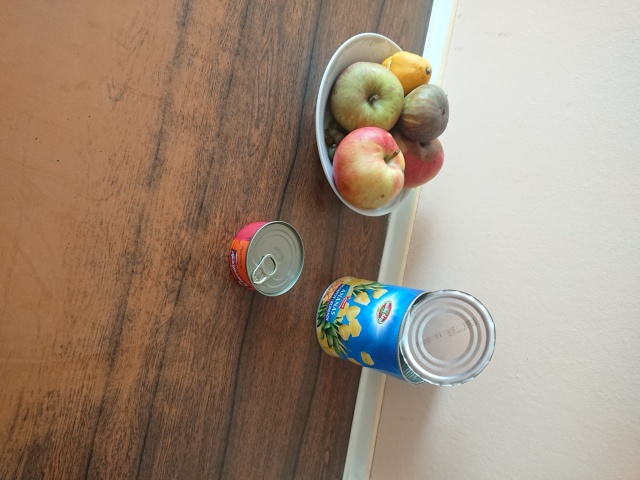Gavrilovic Pork Liver Pate 100g: (226, 218, 306, 299)
